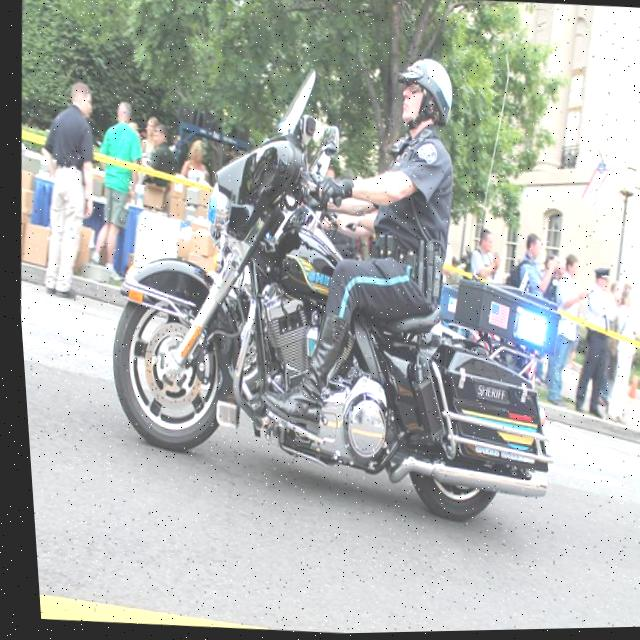motorcycle: (82, 98, 588, 539)
